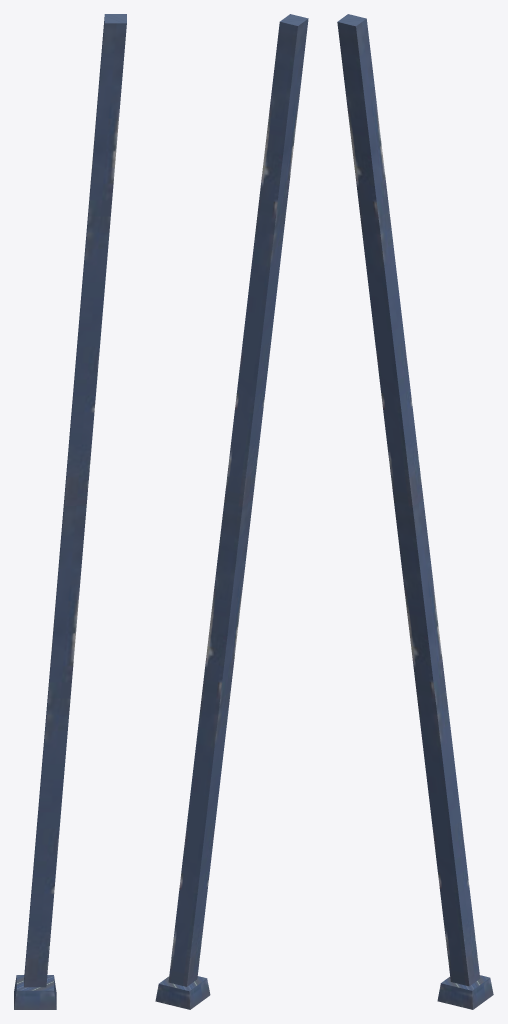
File: Demo_xinhaota02.FBX
3 renders of one model, left to right at view 1: azimuth 90°, elevation 25°; view 2: azimuth 150°, elevation 25°; view 3: azimuth 330°, elevation 25°, orthographic. The views are drawn at different scales.
Visible parts, largest first — view 1: Demo_xinhaota02; view 2: Demo_xinhaota02; view 3: Demo_xinhaota02.
Boxes of the visible parts, bbox=[...] form: Demo_xinhaota02: bbox=[14, 14, 126, 1009]; Demo_xinhaota02: bbox=[155, 14, 308, 1009]; Demo_xinhaota02: bbox=[337, 14, 493, 1009].
Bounding box in the file's own units: 1.85 × 17.17 × 1.72.
